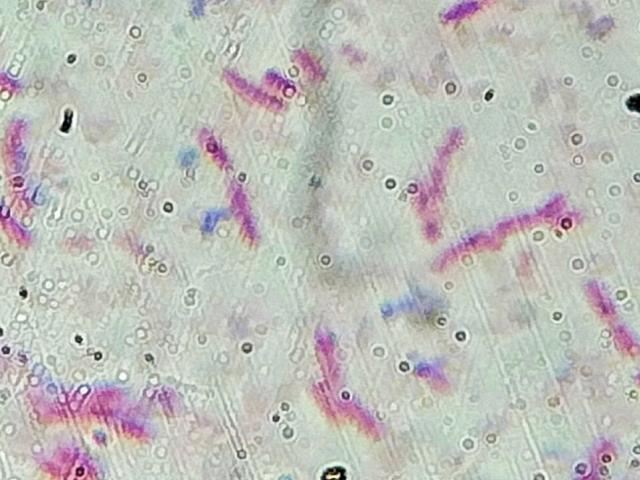E. coli: (495, 192, 574, 237), (586, 277, 630, 350), (223, 177, 266, 249), (415, 126, 459, 182), (8, 116, 38, 195), (432, 230, 490, 266), (51, 446, 110, 480), (316, 325, 351, 381), (341, 402, 386, 442), (228, 77, 277, 113), (46, 385, 110, 410), (582, 432, 614, 479), (411, 359, 456, 391), (431, 0, 486, 26), (191, 125, 223, 168), (0, 205, 24, 255), (289, 46, 322, 80), (105, 412, 145, 440), (305, 379, 335, 415), (409, 185, 431, 226), (2, 67, 28, 98), (271, 65, 298, 94), (152, 389, 178, 414)
